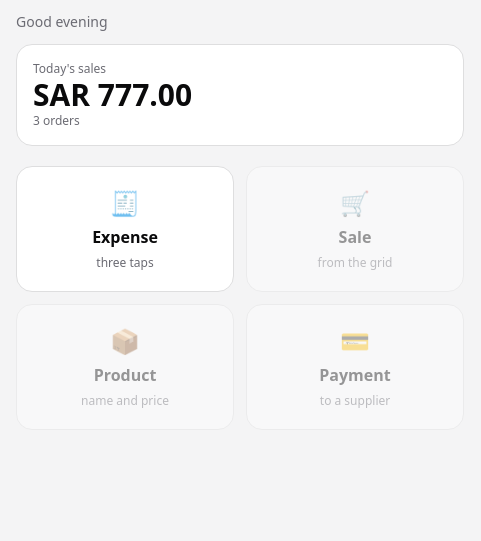
Test: QuickEntry › will not save before a category is chosen
What coordinates should you click on to do the following:
click the button "🧾 Expense three taps"
I would click on:
 (125, 229)
Its box is [16, 166, 234, 292].
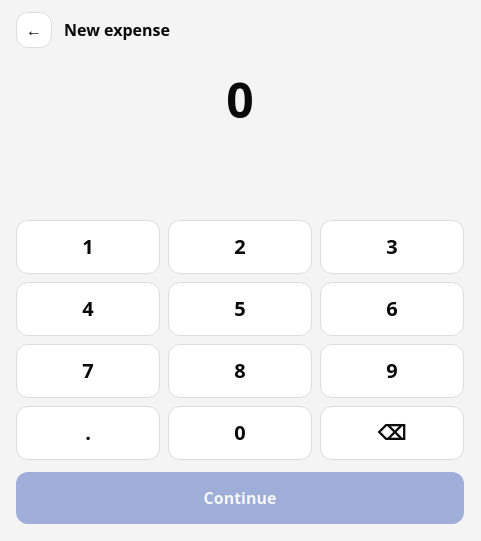
What coordinates should you click on to do the following:
click the button "5"
I would click on:
 (240, 309)
Its box is [168, 282, 312, 336].
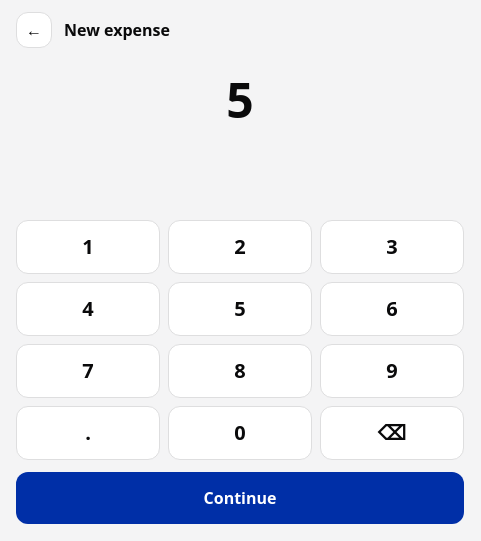
What coordinates should you click on to do the following:
click the button "0"
I would click on:
 (240, 433)
Its box is [168, 406, 312, 460].
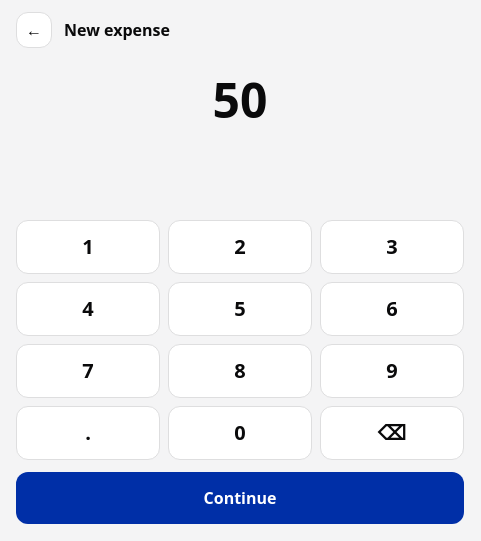
What coordinates should you click on to do the following:
click the button "Continue"
I would click on:
 (240, 498)
Its box is [16, 472, 464, 524].
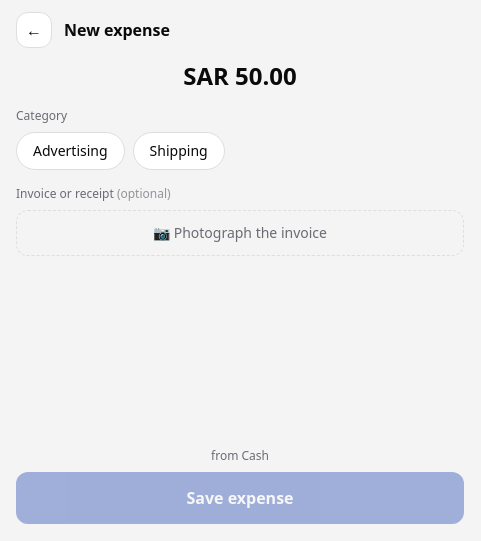
Expected: the button "Save expense" is disabled, [16, 472, 464, 524]
What coordinates should you click on to do the following:
click the button "Advertising"
I would click on:
 (70, 151)
Its box is [16, 132, 125, 170].
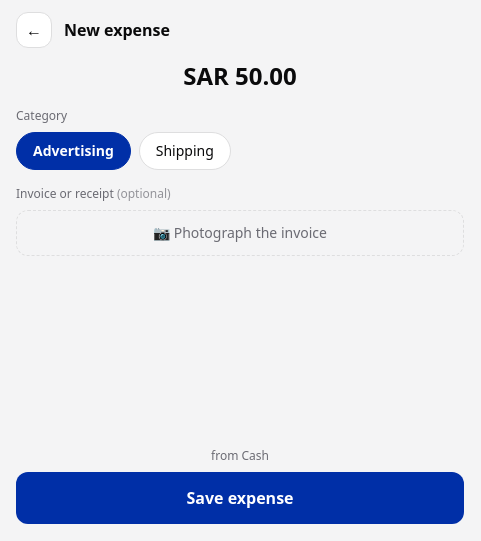
Expected: the button "Save expense" is enabled, [16, 472, 464, 524]
